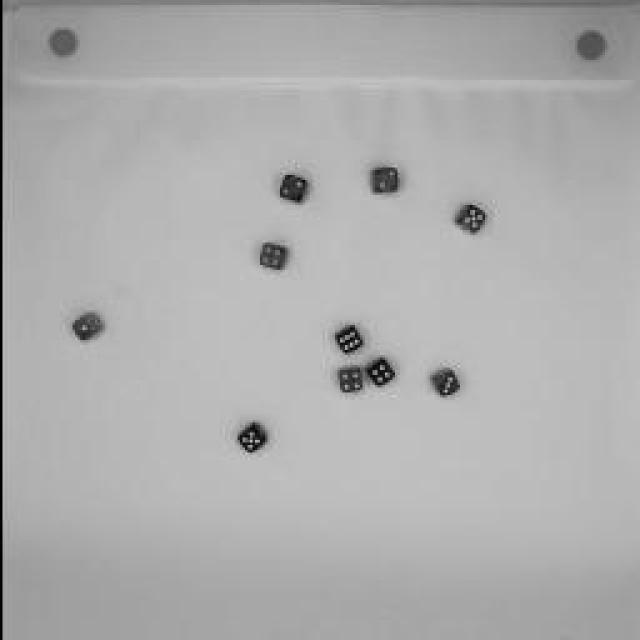dice_1: (68, 311, 104, 344)
dice_2: (366, 162, 402, 198), (274, 170, 308, 205)
dice_3: (426, 366, 462, 399)
dice_4: (251, 240, 291, 272), (361, 355, 399, 387), (335, 365, 363, 395)
dice_5: (231, 420, 269, 458), (450, 200, 488, 235)
dice_6: (333, 322, 365, 358)
